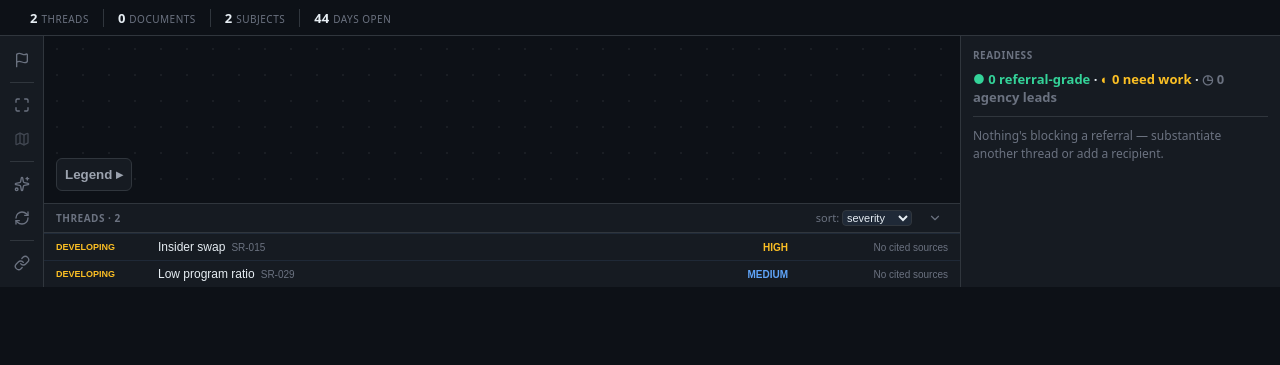
Test: InvestigateTab Thread Path Mode › a subject-only thread with no map presence shows the no-visible-path note
Click the button with aria-label "thread row Low program ratio" at (86, 274), box [44, 260, 960, 287]
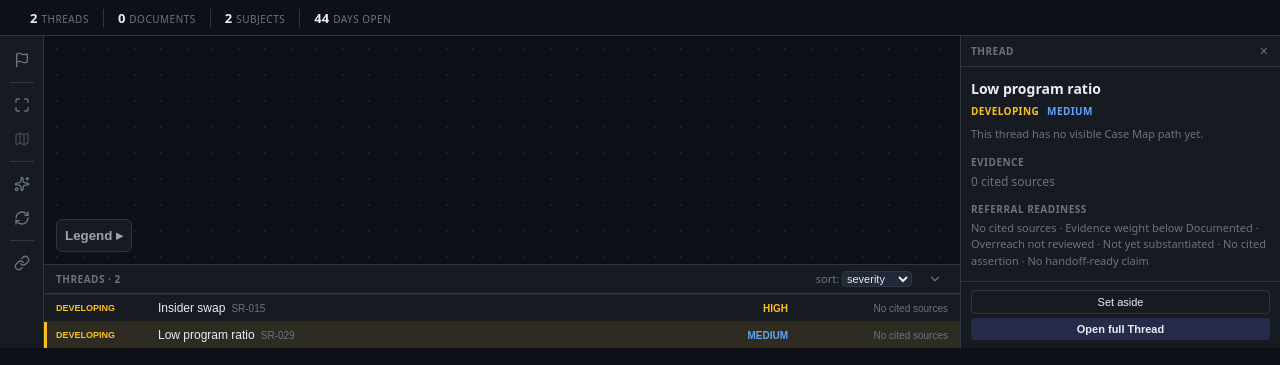
Expected: the text "This thread has no visible Case Map path yet." is shown, [971, 126, 1203, 141]
